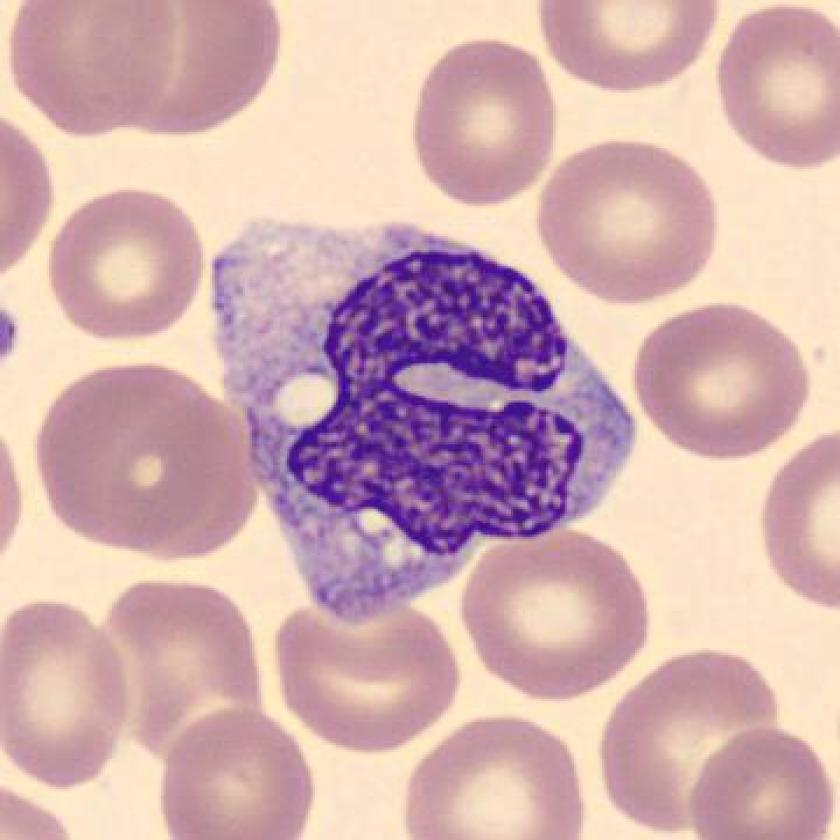monocyte: (188, 182, 652, 631)
